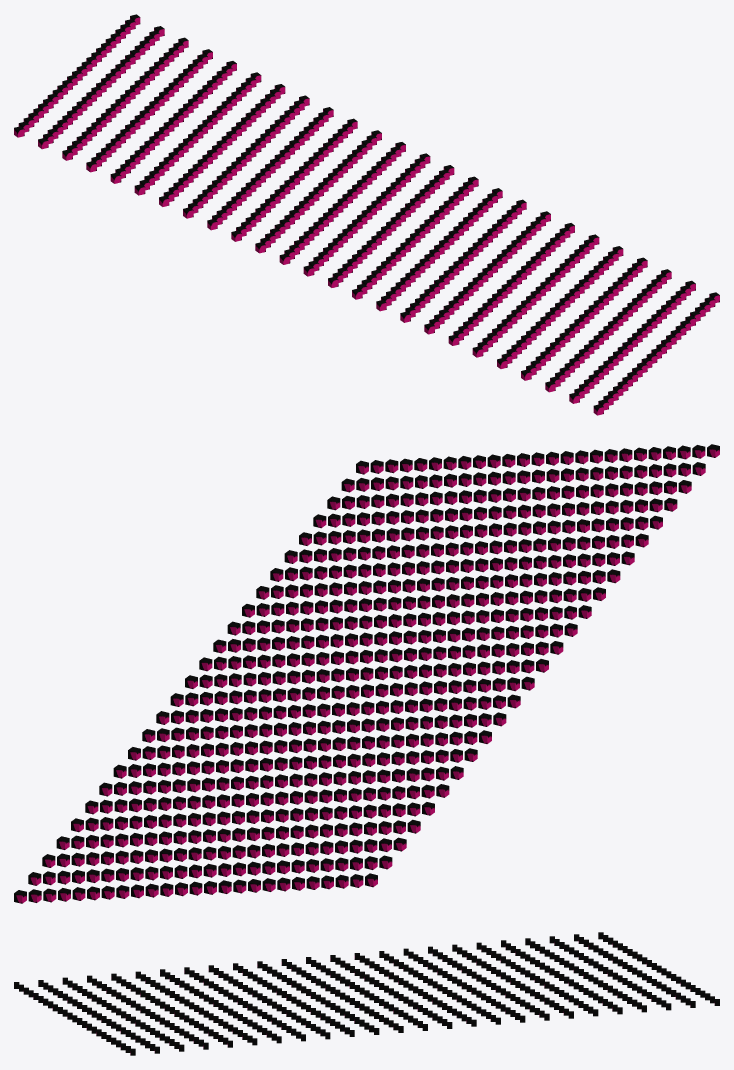
The picture shows the model from 3 angles, top to bottom: view 1: azimuth 30°, elevation 25°; view 2: azimuth 150°, elevation 25°; view 3: azimuth 270°, elevation 25°; orthographic projection. The views are drawn at different scales.
Bounding box in the file's own units: 107 × 2 × 268.
1 material, 1 textured.
